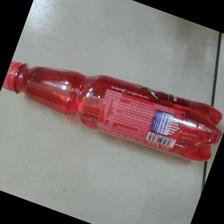Sting: (1, 58, 223, 165)
